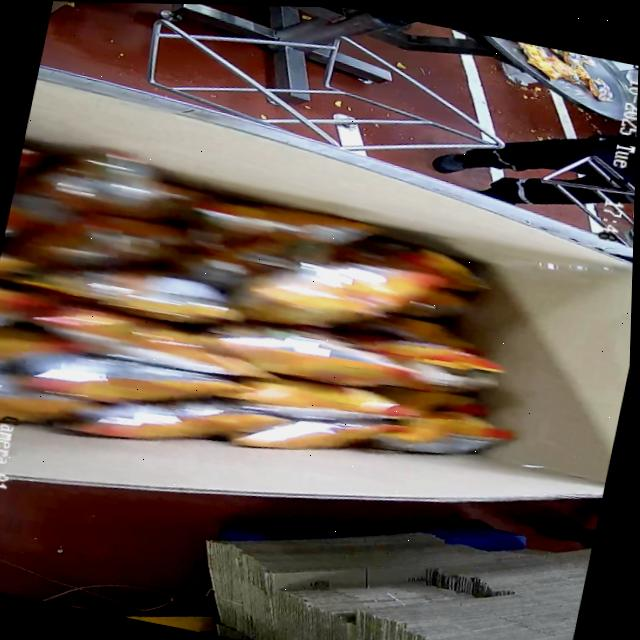FRENCH_CHEESE: (0, 152, 527, 508)
